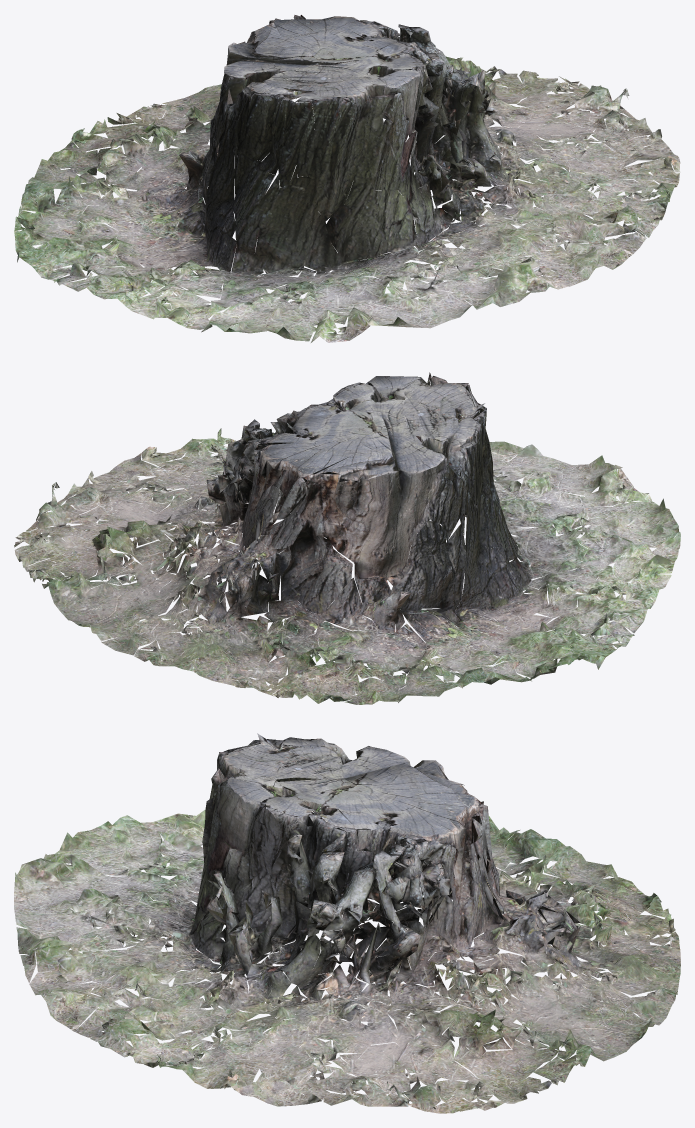
Rendered from stump_meadow.glb.
3 renders of one model, top to bottom at view 1: azimuth 30°, elevation 25°; view 2: azimuth 150°, elevation 25°; view 3: azimuth 270°, elevation 25°, orthographic. The views are drawn at different scales.
Parts seen in each view (by area): view 1: Object_3; view 2: Object_3; view 3: Object_3.
Boxes of the visible parts, left/top/right/bottom form: Object_3: left=14, top=15, right=680, bottom=342; Object_3: left=14, top=372, right=680, bottom=704; Object_3: left=14, top=733, right=680, bottom=1113.
Size of the model in its own units: 1.47 by 0.4214 by 1.33.
Materials: 1 (1 with a texture image).
